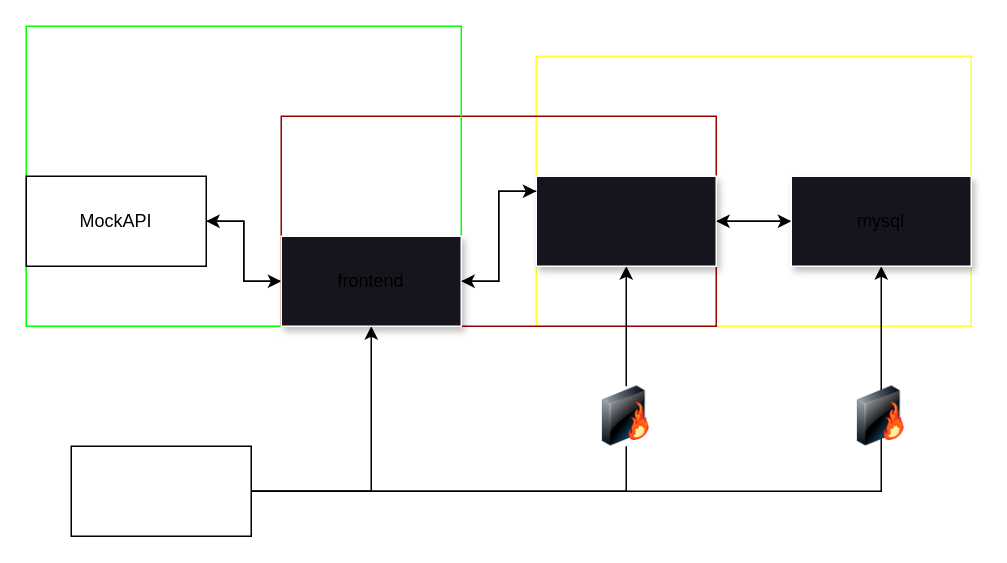
Image size: 1007x563. Some labels were removed from this diagram. The centre of each missing label's shape, as x and y in pixels:
"backend" belongs at pixel 627 223.
"Client" belongs at pixel 160 490.
